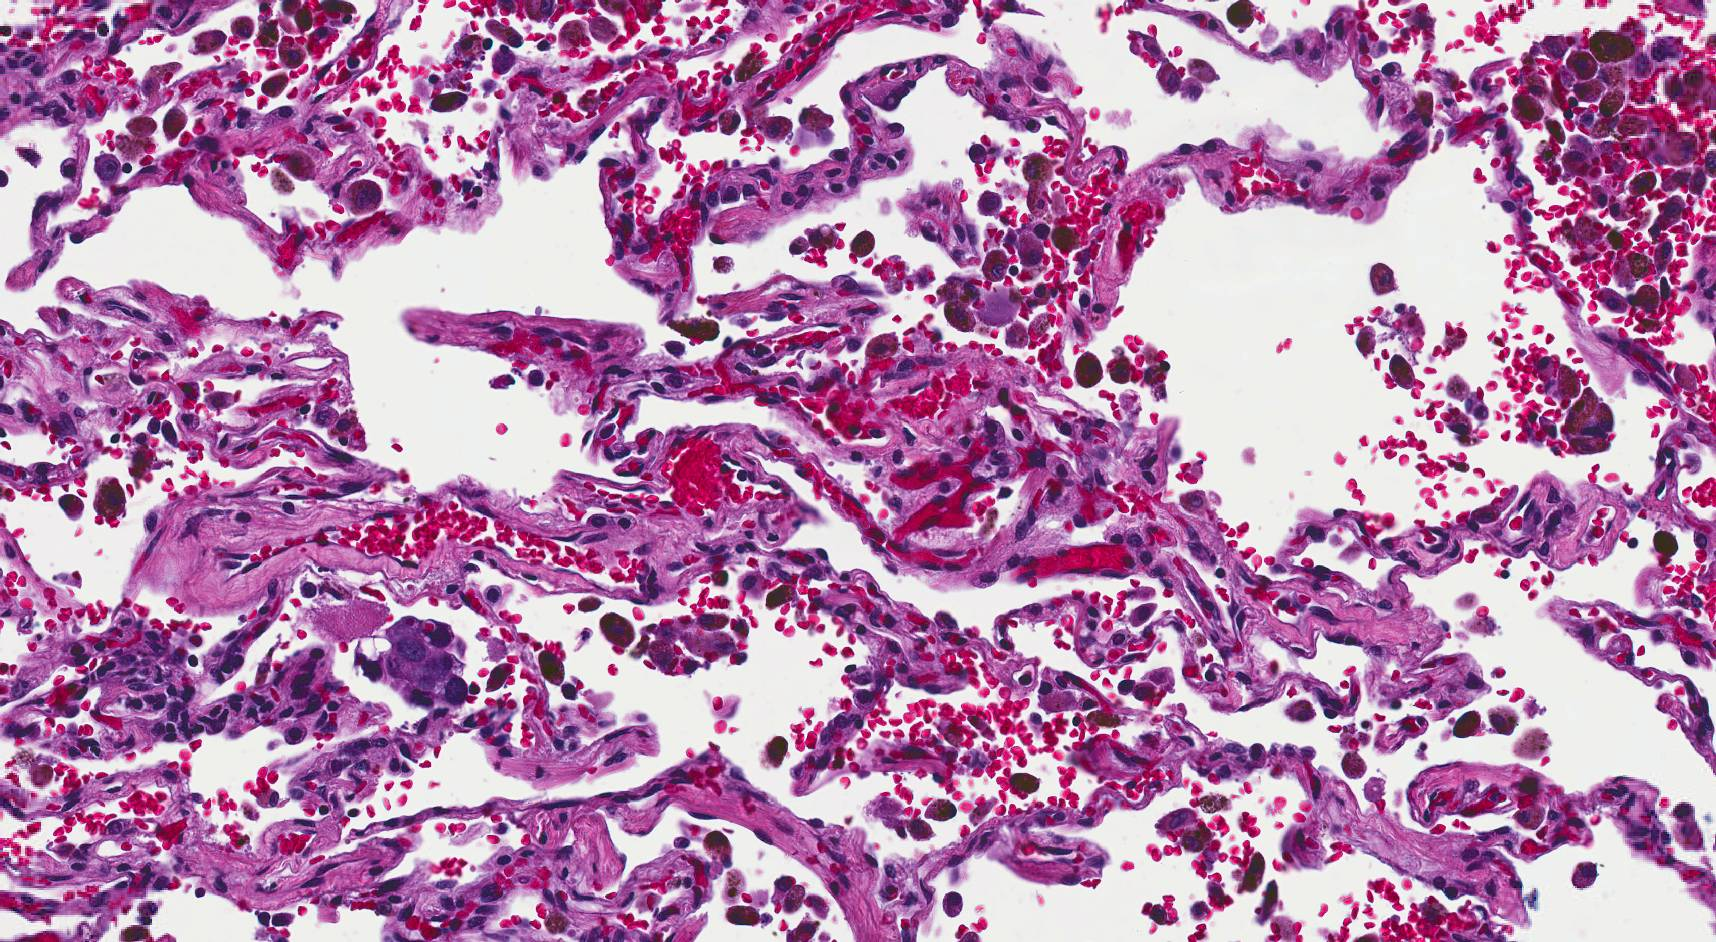stas: (350, 614, 471, 712)
